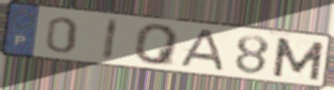0: (43, 16, 83, 54)
8: (232, 32, 272, 77)
A: (175, 28, 228, 73)
I: (100, 16, 121, 62)
M: (270, 35, 327, 82)
Q: (133, 23, 183, 68)
